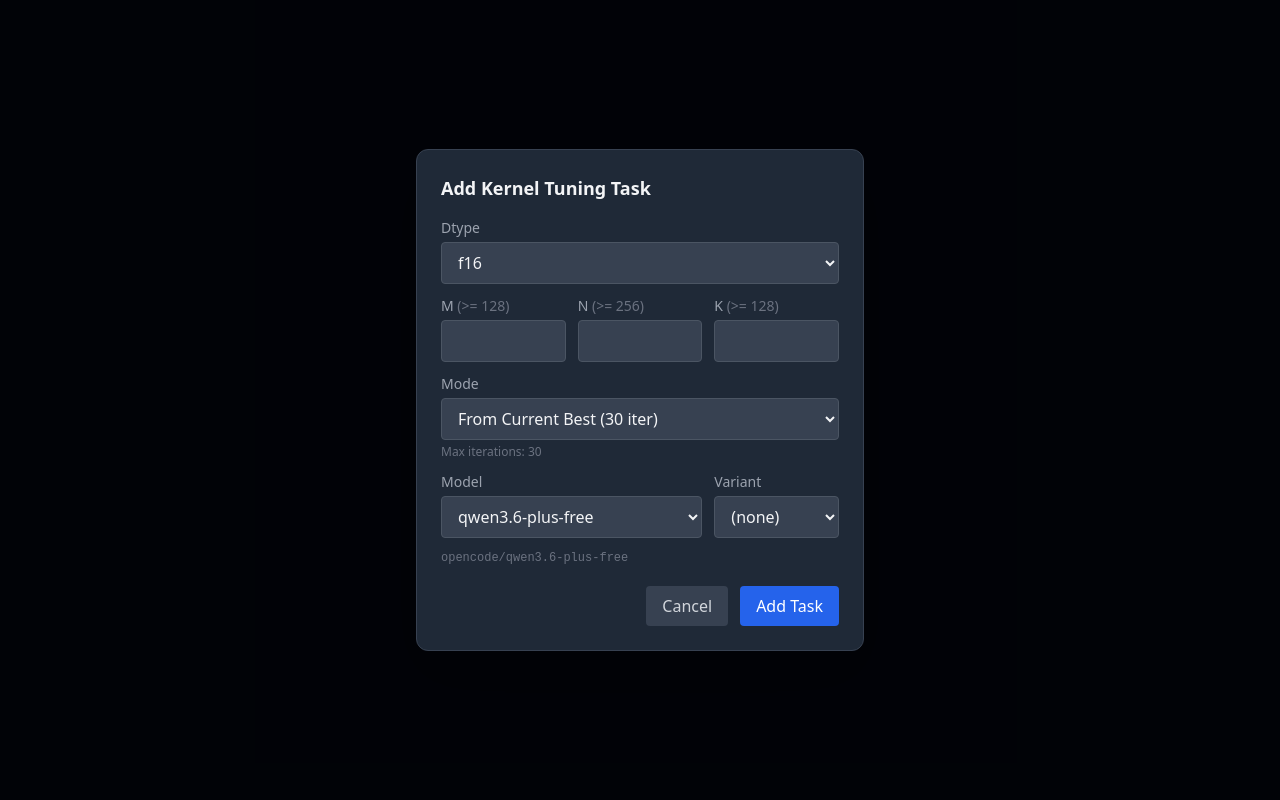
Test: AddTaskForm › updates max iterations when mode changes to from_scratch
This screenshot has width=1280, height=800.
Select "From Scratch (150 iter)" in the 2nd dropdown showing "From Current Best (30 iter)" at (640, 419), box [441,398,839,440]
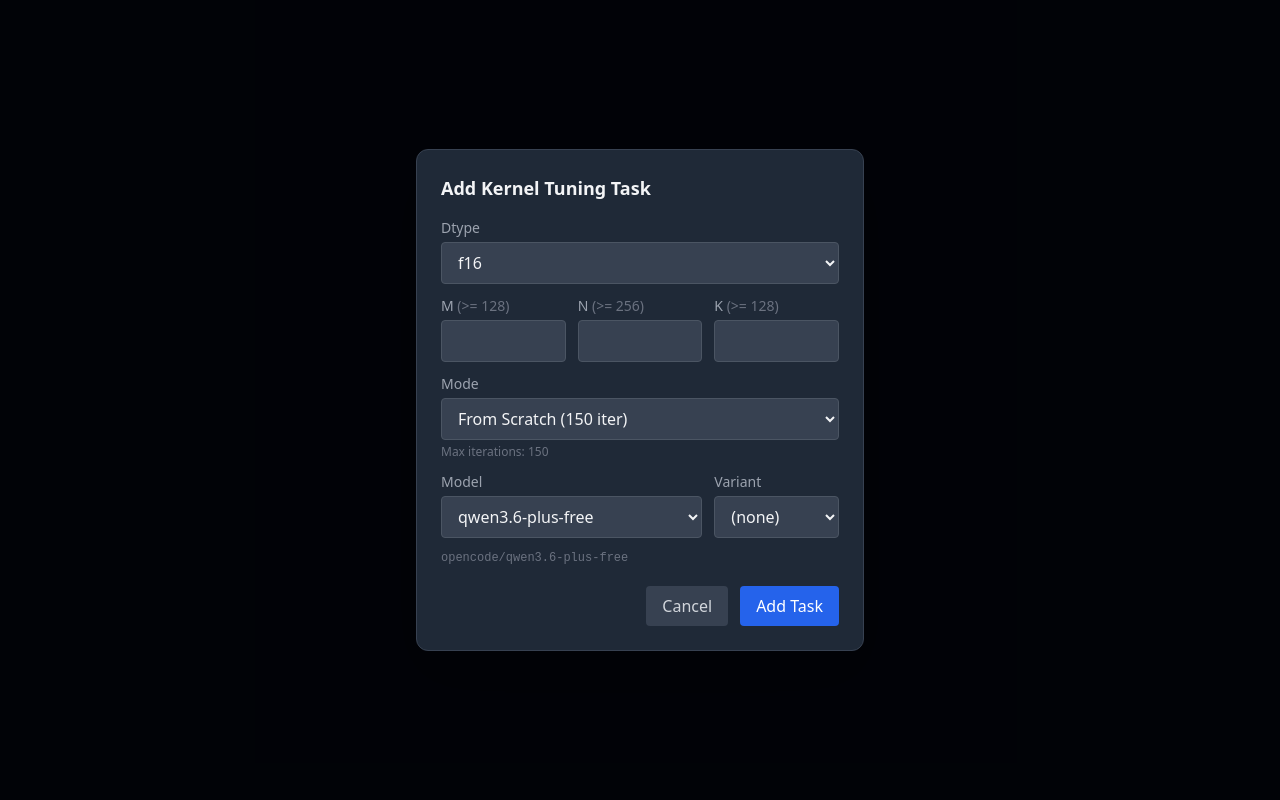
Expected: the text "Max iterations: 150" is shown, [441,443,548,460]
